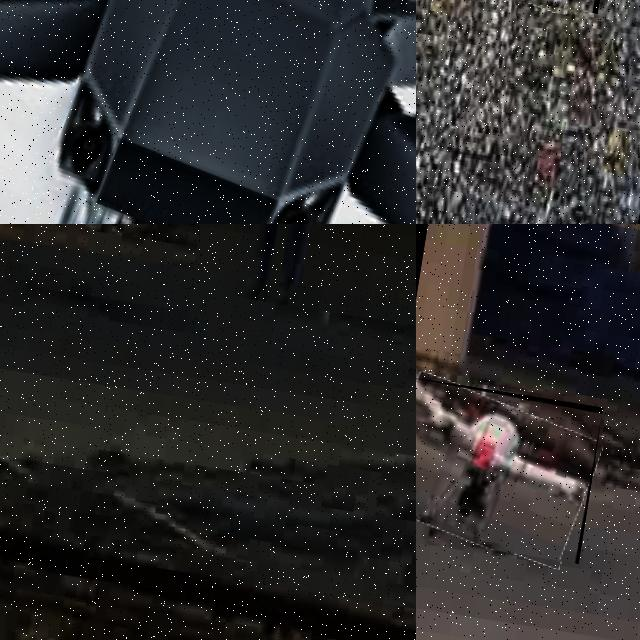0: (416, 376, 603, 564)
drone: (0, 0, 416, 224)
